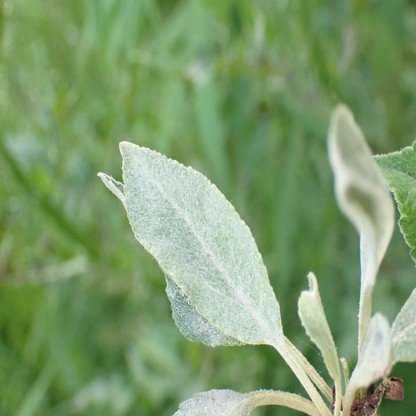powder: (99, 142, 283, 345), (373, 142, 416, 265), (296, 271, 338, 380), (354, 313, 393, 381), (173, 389, 254, 415), (390, 287, 416, 364), (360, 232, 378, 289)
